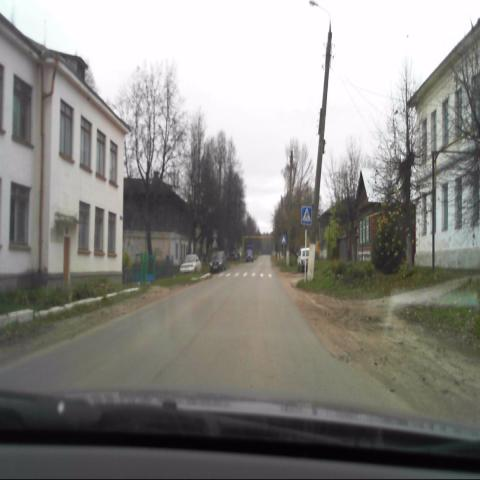5_19_1: (301, 206, 312, 226)
